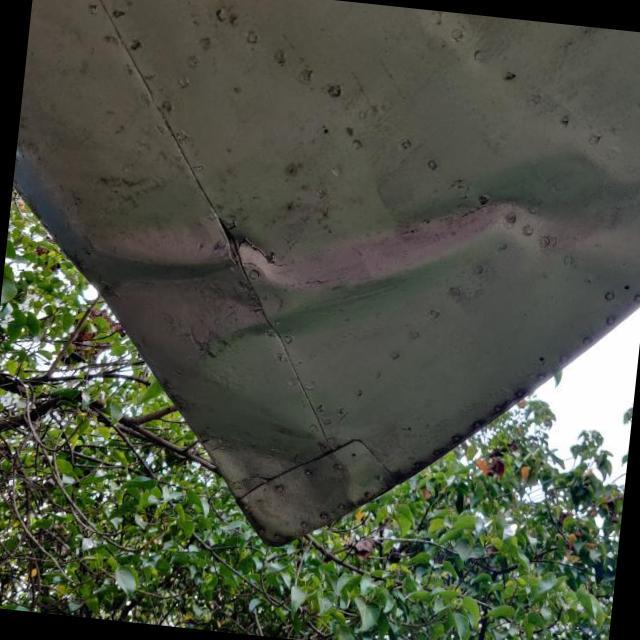Dent: (40, 66, 640, 420), (173, 398, 367, 549)
Rupture: (229, 228, 296, 274)
